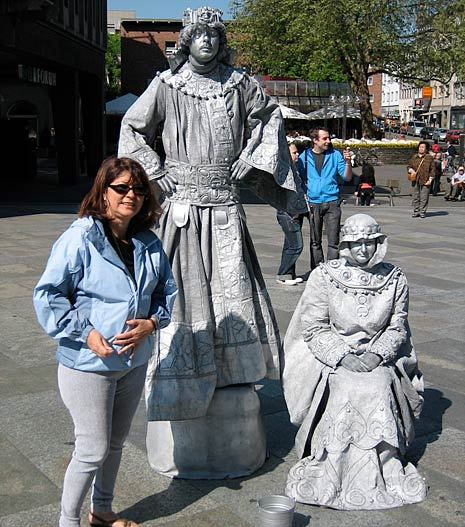person: (27, 151, 182, 527), (301, 126, 355, 262), (275, 141, 310, 288), (403, 137, 439, 220)
person-like: (112, 3, 293, 486), (278, 210, 435, 513)
